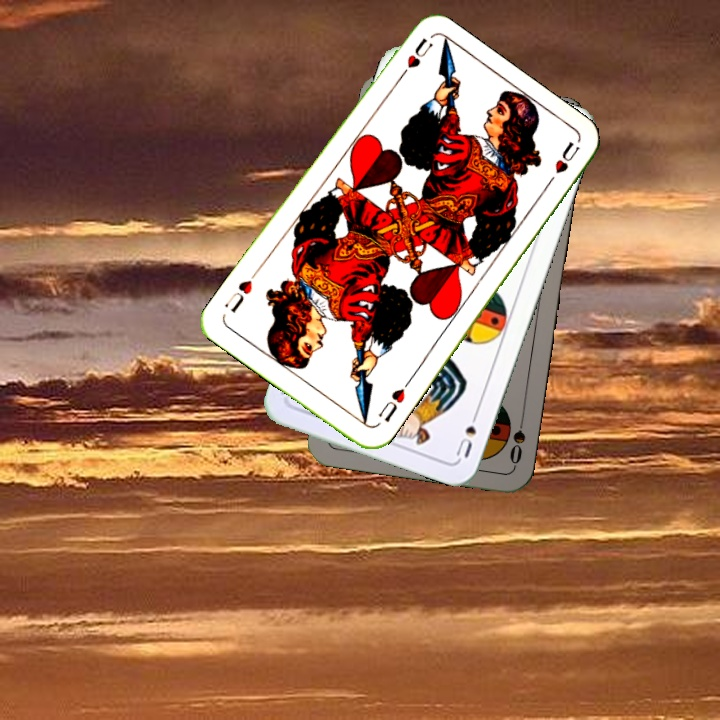HU: (392, 34, 435, 85), (374, 377, 413, 426)
SO: (505, 409, 528, 468)
SU: (452, 404, 482, 460)
